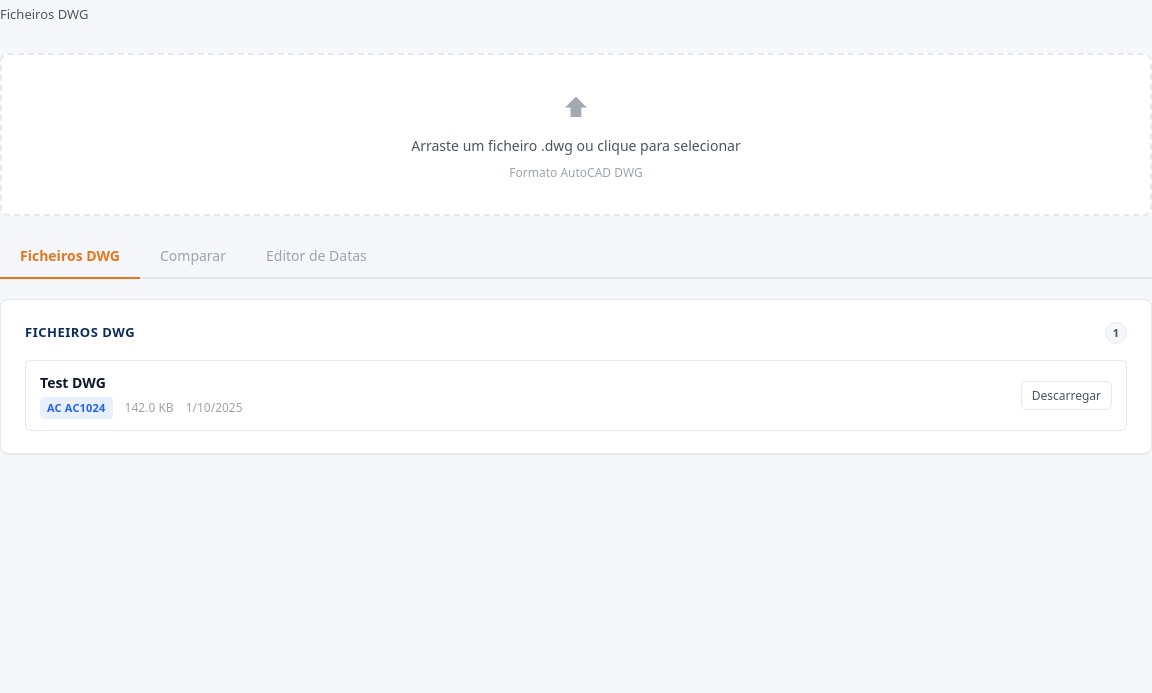
Test case: DwgViewerPane — error code 64 regression › renders SVG content on the happy path (error = 0, valid data)
Click the element with class "eng-file-row".
click(576, 395)  # box x1=25 y1=360 x2=1127 y2=431
(page scrolled)
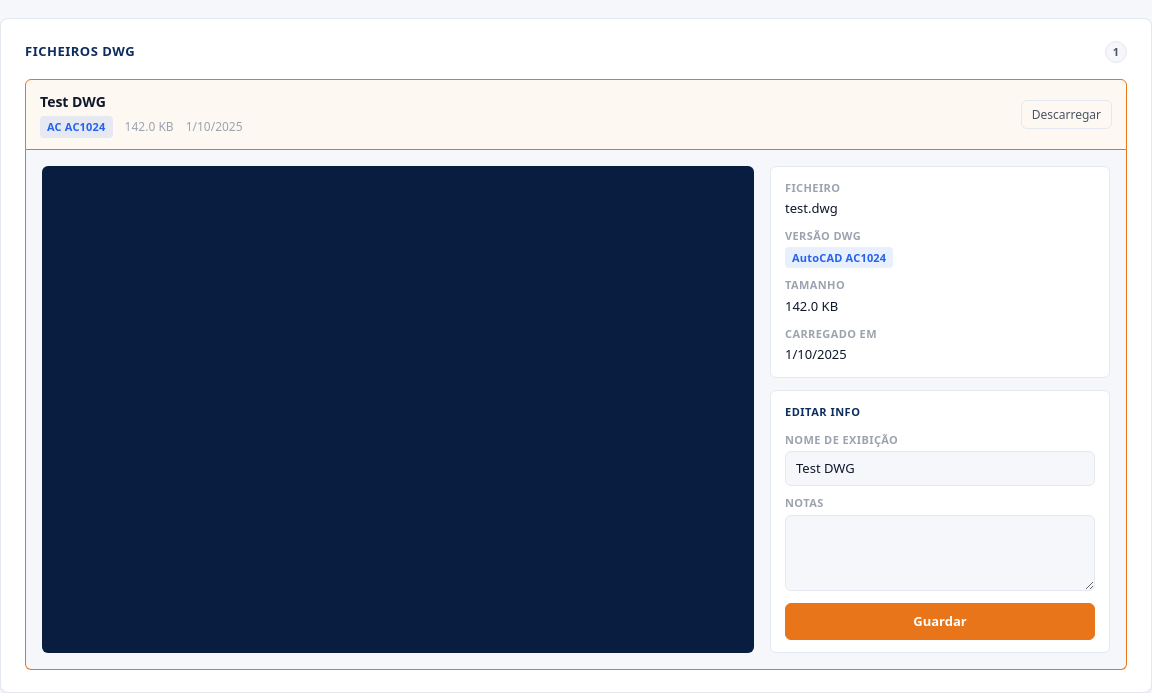
Expected: the element with class "eng-viewer-placeholder" is shown, x1=42 y1=166 x2=754 y2=653
